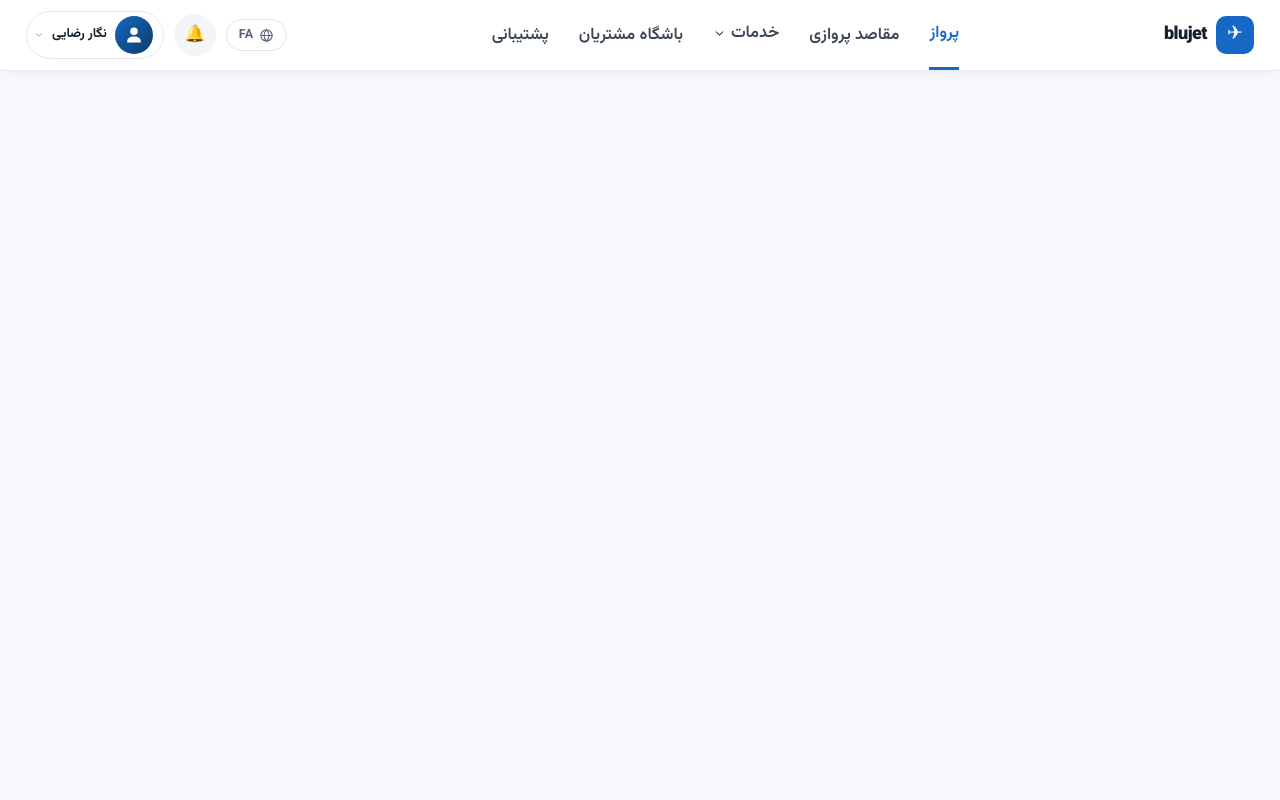
Test case: PublicHeader — logged-in user › closes the sign-out confirmation even when server-side revocation fails
Step 1. Click the element with test id "public-user-menu-toggle" → (95, 35), box x1=26 y1=11 x2=164 y2=59
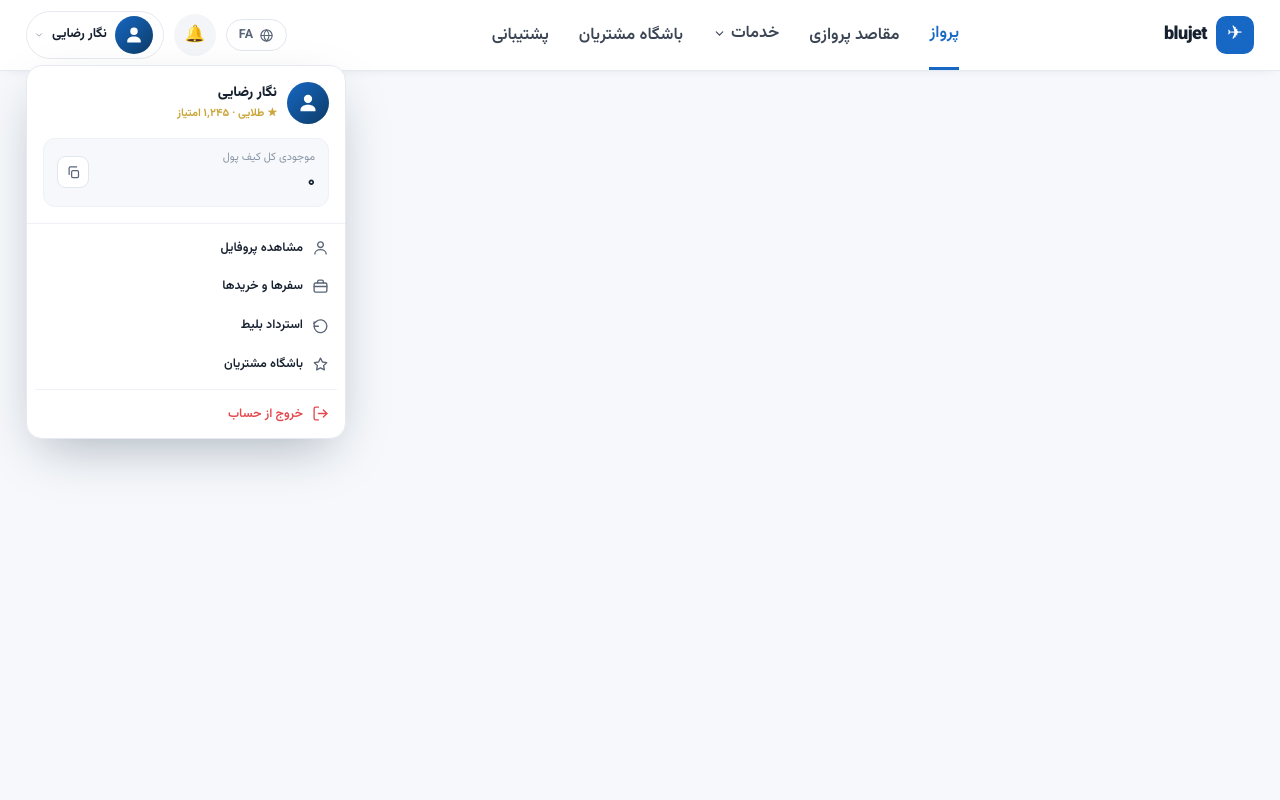
Step 2. Click the button with test id "public-logout" → (265, 414), box x1=32 y1=394 x2=340 y2=433
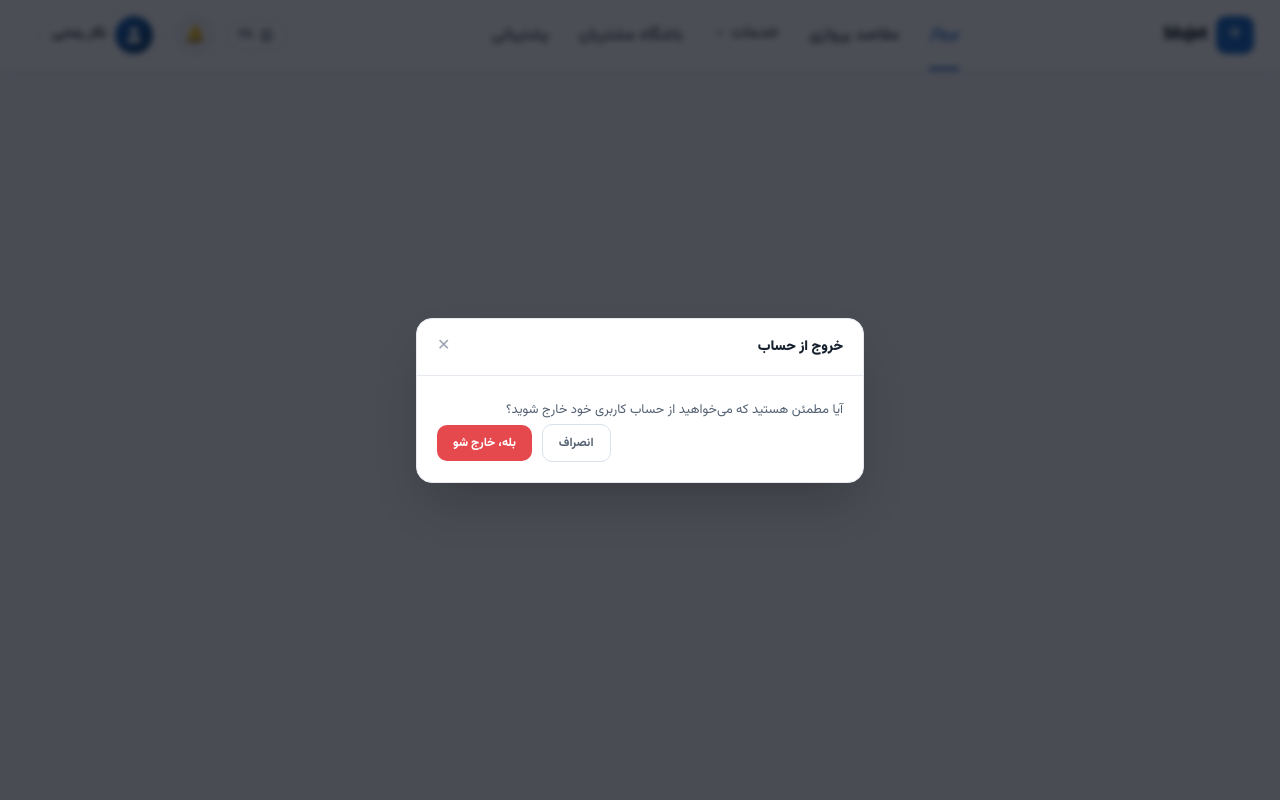
Step 3. Click the button with test id "public-logout-confirm-confirm" → (484, 442), box x1=437 y1=424 x2=532 y2=460
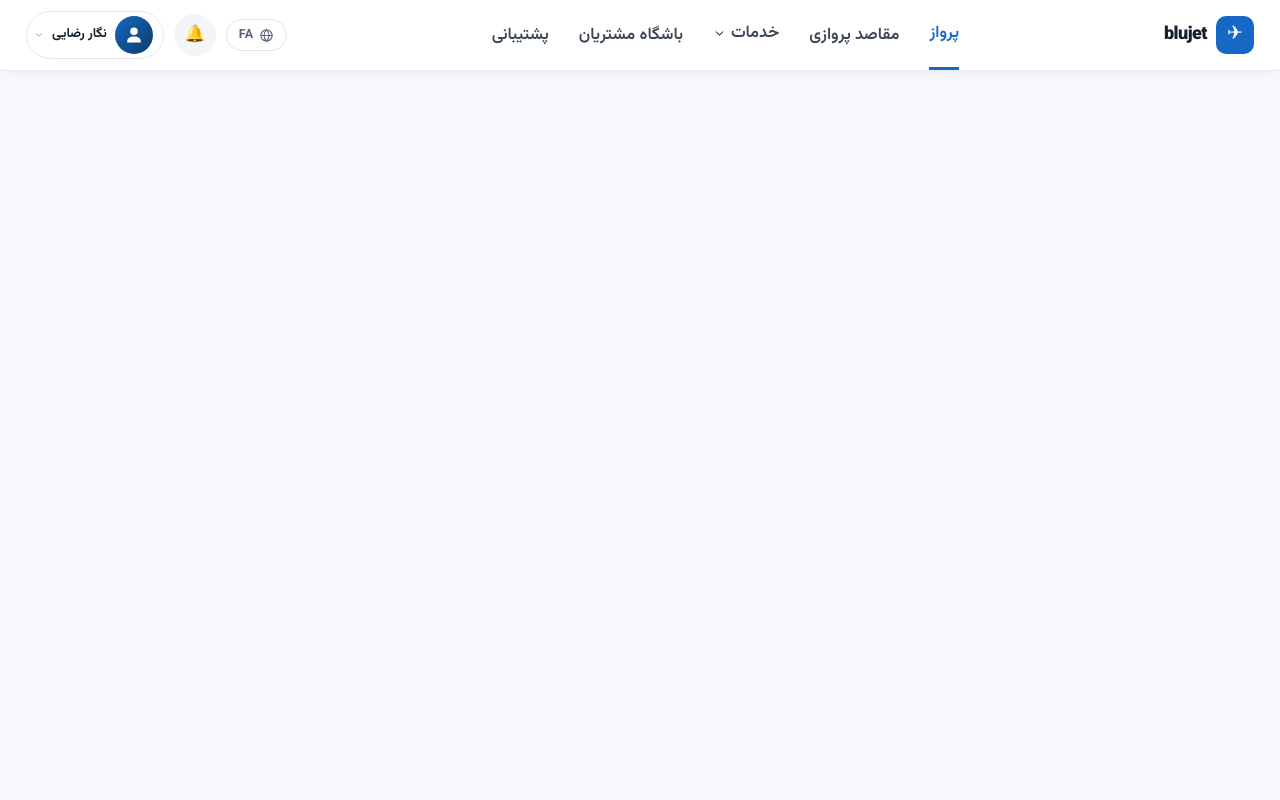
expect the element with test id "public-logout-confirm" is gone: met
